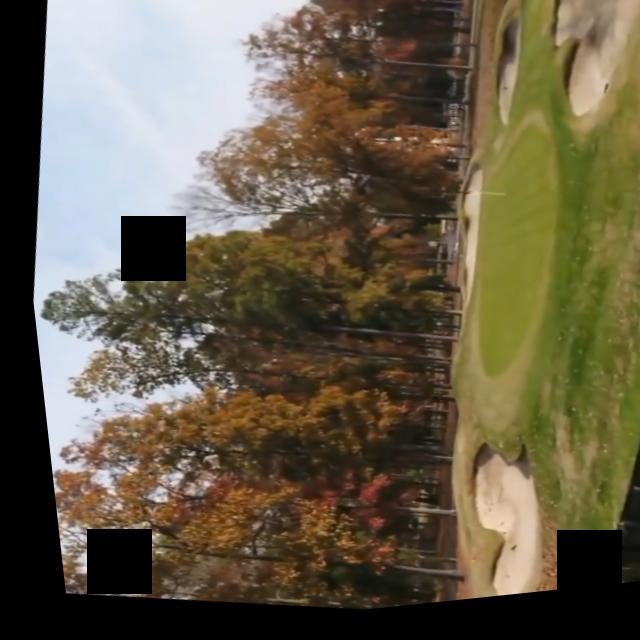Pole: (442, 186, 513, 219)
